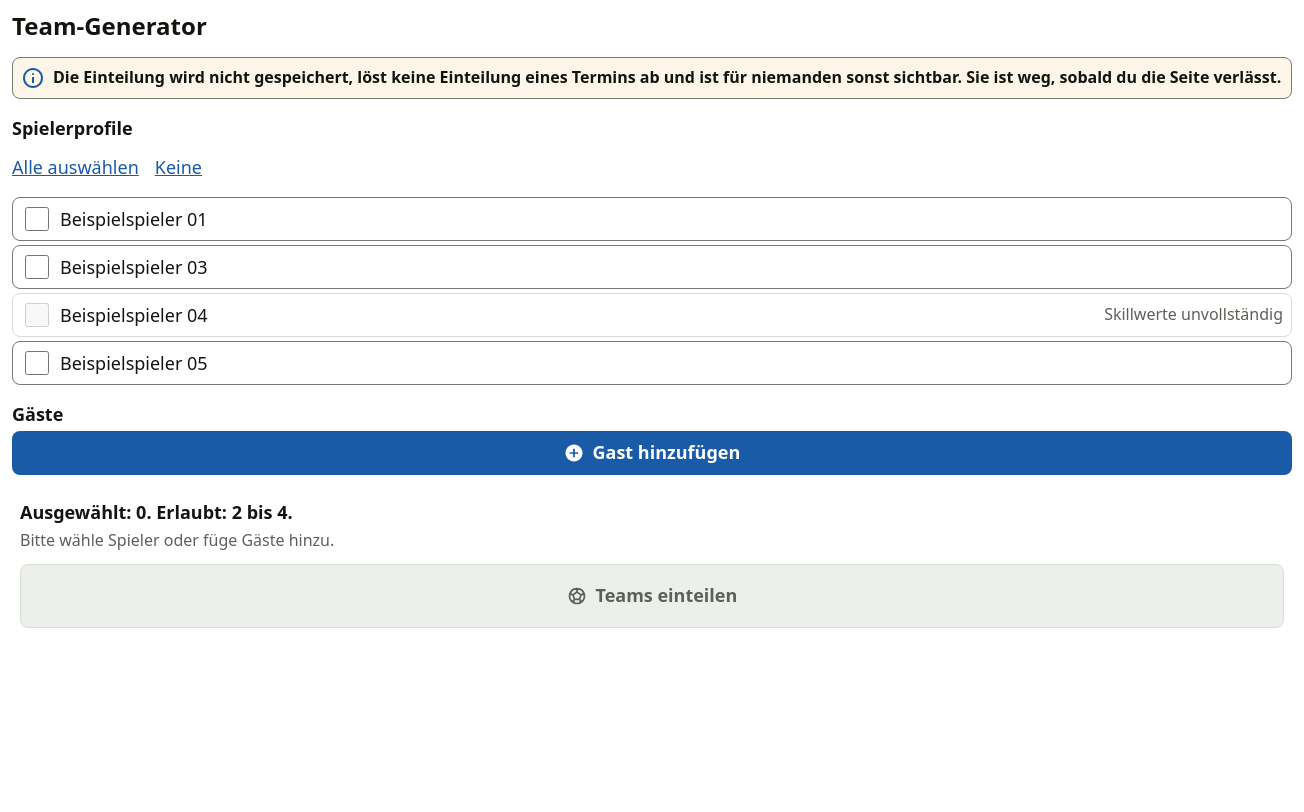
Scenario: AdminTeams – Gäste (Eingabe mit „Übernehmen“ und „Abbrechen“, 24.10.2026) › „Gast hinzufügen“ öffnet die Eingabe: Fokus im Namensfeld, Stufe Mittel, Hinweis; gezählt wird noch nichts
Expected: the checkbox with test id "admin-teams-profil-1" is shown, left=25, top=207, right=49, bottom=231
Expected: the text with test id "admin-teams-zaehler" shows "Erlaubt:", left=152, top=500, right=293, bottom=524
Click the button with test id "admin-teams-gast-hinzufuegen" at (652, 453), box left=12, top=431, right=1292, bottom=475
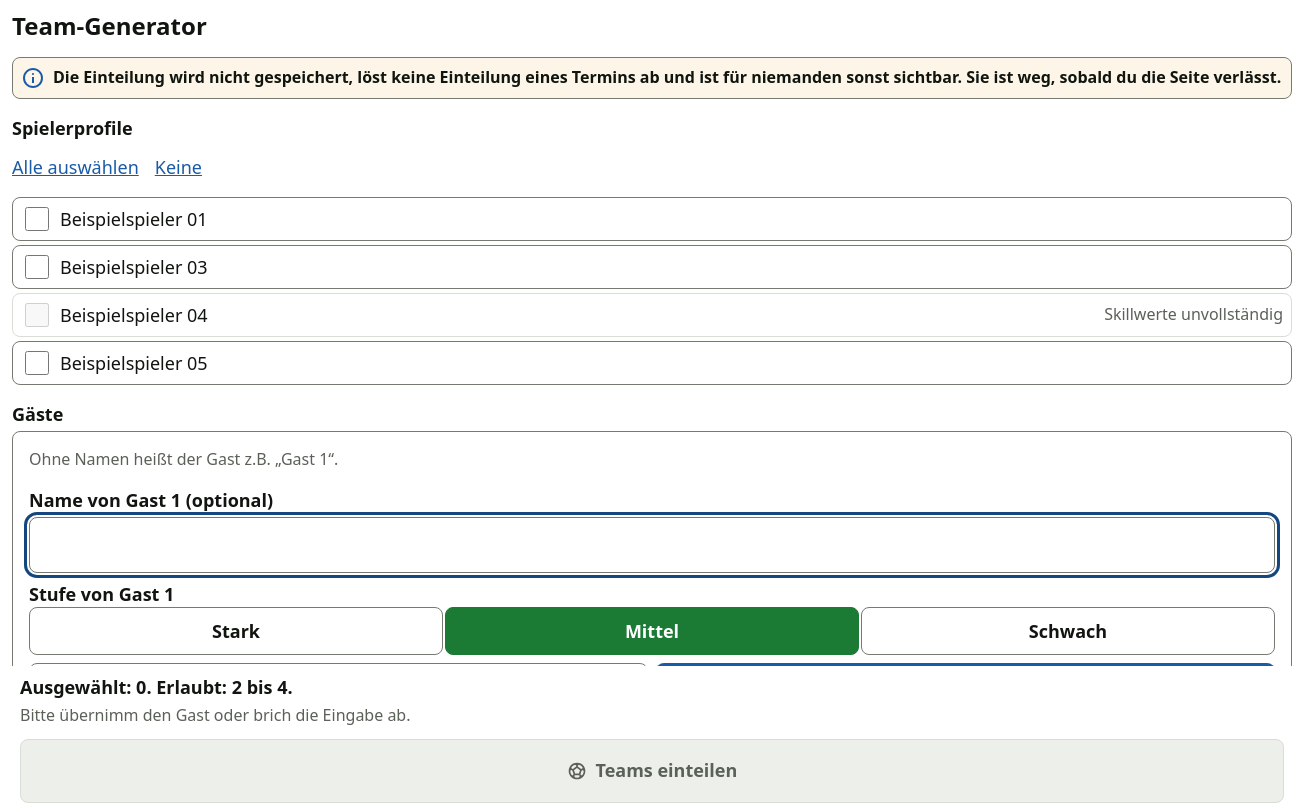
Result: the element with test id "admin-teams-gast-eingabe" is shown at left=12, top=431, right=1292, bottom=724
Result: the radio button with test id "admin-teams-gast-stufe-MITTEL" is checked at left=444, top=607, right=860, bottom=655
Result: the text with test id "admin-teams-gast-hinweis" reads "Ohne Namen heißt der Gast z.B. „Gast 1“." at left=29, top=448, right=338, bottom=470
